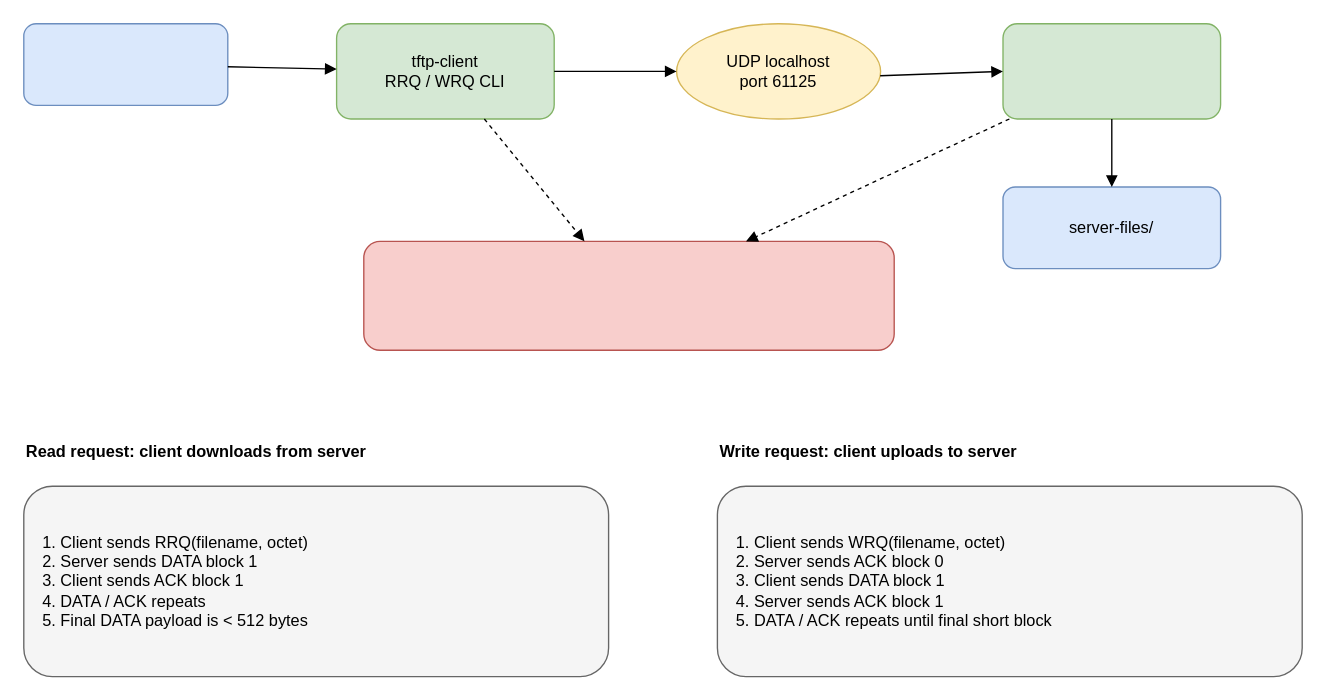
This 1326x700 diagram has some shape labels left out. Each missing label, with the centre of its shape:
"client-files/" goes at pixel 125 63.
"tftp-server request loop" goes at pixel 1111 70.
"TftpCommon.cpp sendData, sendError, transfer loops, timeout/retry" goes at pixel 628 295.
